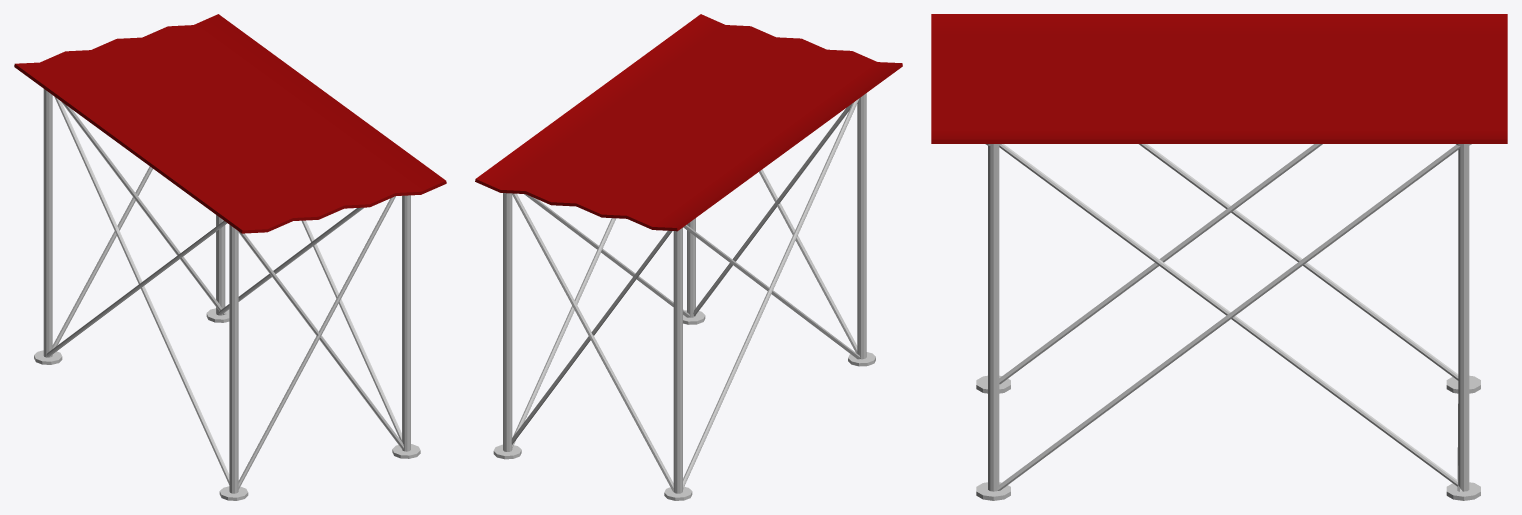
The model's file is echaffaudage.fbx.
The picture shows the model from 3 angles, left to right: view 1: azimuth 30°, elevation 25°; view 2: azimuth 150°, elevation 25°; view 3: azimuth 270°, elevation 25°; orthographic projection. The views are drawn at different scales.
Parts seen in each view (by area): view 1: echaffaudage; view 2: echaffaudage; view 3: echaffaudage.
Part boxes in pixels (x1,y1,x2,y2): echaffaudage: (14,14,446,500); echaffaudage: (475,14,902,500); echaffaudage: (931,14,1507,500).
Size of the model in its own units: 96.81 by 131 by 186.
